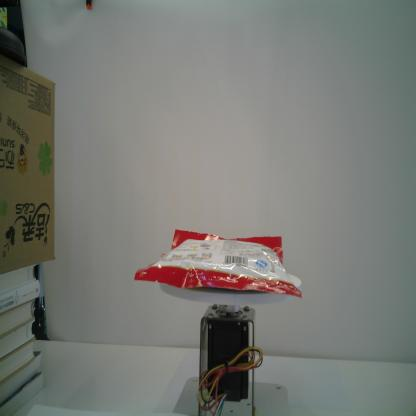Instant Drink: (133, 226, 303, 299)
